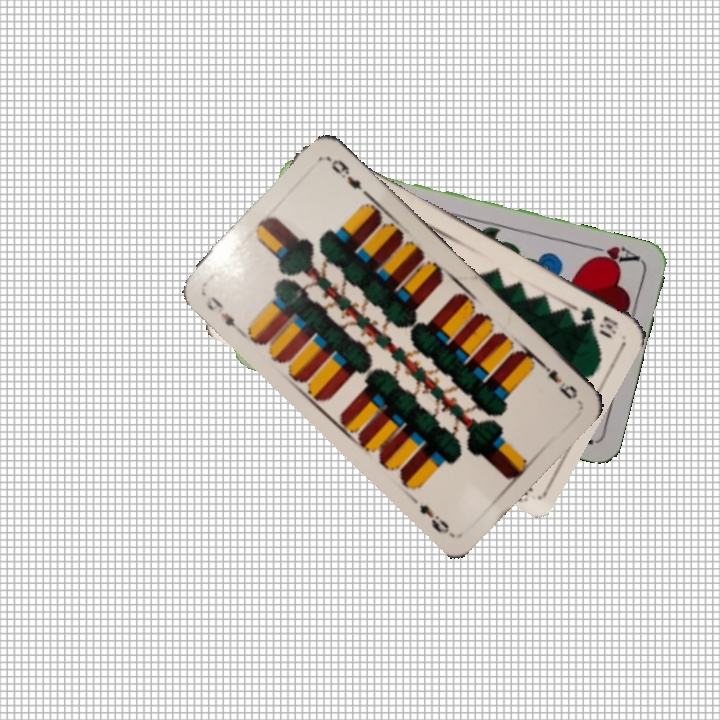E9: (535, 357, 580, 402), (202, 292, 245, 336)
G10: (576, 303, 621, 339)
HA: (584, 240, 642, 269)
